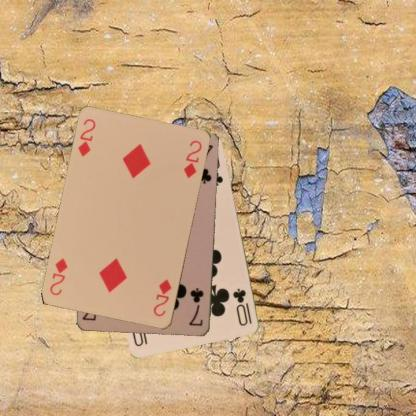10c: (231, 286, 254, 328)
2d: (75, 116, 97, 158), (151, 277, 173, 318)
7c: (187, 286, 205, 328)
